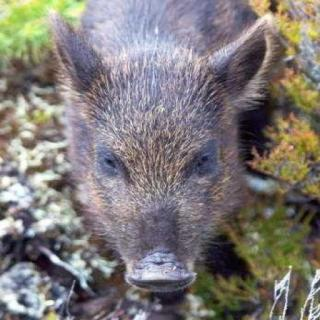Pig: (40, 0, 285, 305)
